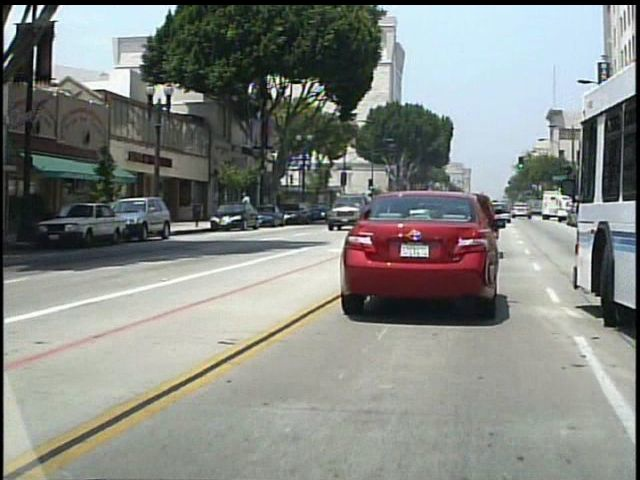person: (244, 190, 257, 224)
